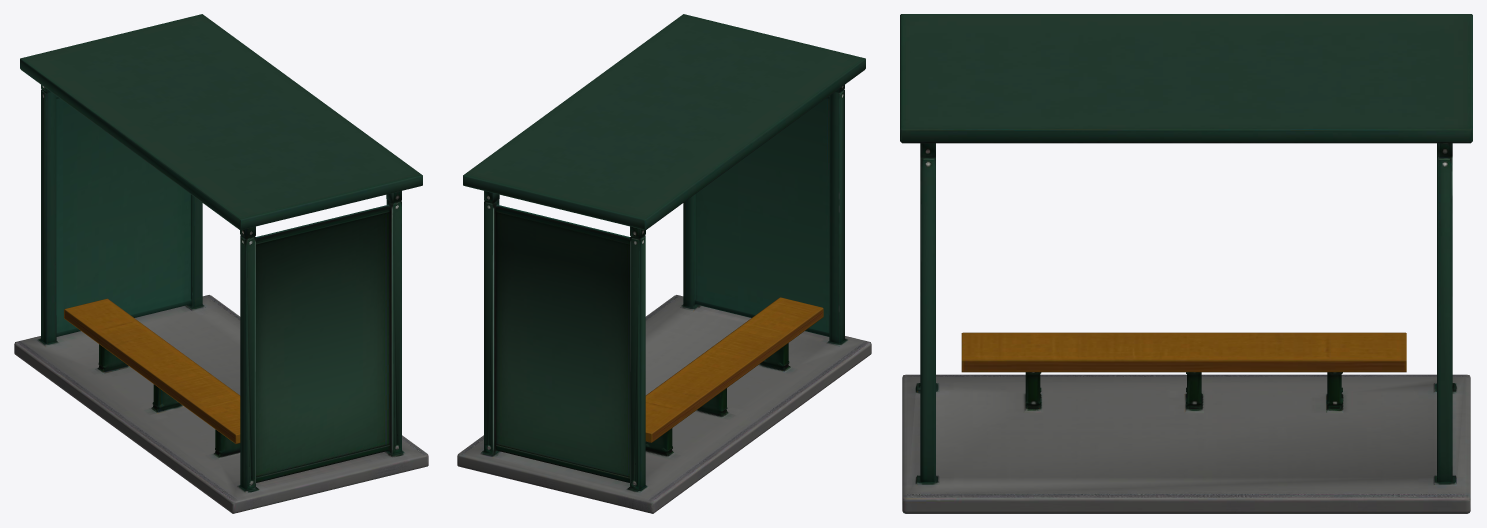
Rendered from bus-shelter-tripo-original.glb.
The picture shows the model from 3 angles, left to right: view 1: azimuth 30°, elevation 25°; view 2: azimuth 150°, elevation 25°; view 3: azimuth 270°, elevation 25°; orthographic projection. The views are drawn at different scales.
Parts seen in each view (by area): view 1: tripo_node_ea364612-95ec-42f3-a771-36dbecbd0bb9; view 2: tripo_node_ea364612-95ec-42f3-a771-36dbecbd0bb9; view 3: tripo_node_ea364612-95ec-42f3-a771-36dbecbd0bb9.
Part boxes in pixels (x1,y1,x2,y2): tripo_node_ea364612-95ec-42f3-a771-36dbecbd0bb9: [14, 14, 428, 513]; tripo_node_ea364612-95ec-42f3-a771-36dbecbd0bb9: [457, 14, 871, 513]; tripo_node_ea364612-95ec-42f3-a771-36dbecbd0bb9: [900, 14, 1472, 513].
Size of the model in its own units: 0.5147 by 0.7339 by 1.
1 material, 1 textured.
